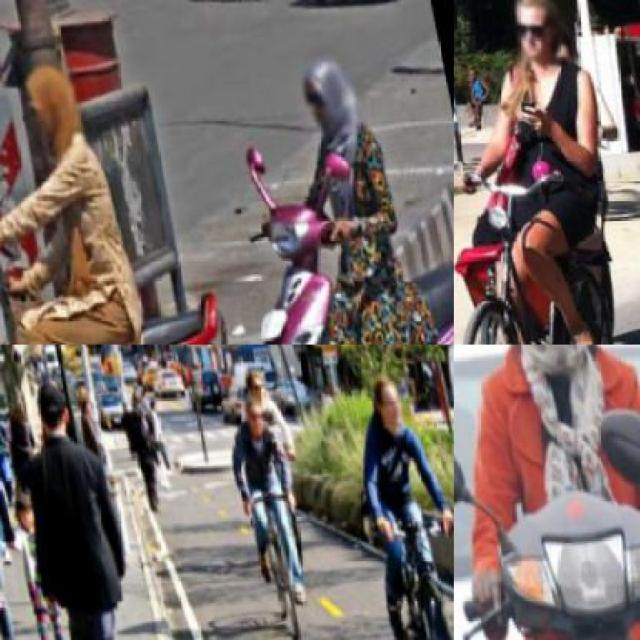Without Helmet: (11, 51, 91, 166), (286, 40, 372, 140), (500, 0, 580, 75), (480, 345, 606, 389), (365, 366, 410, 428), (235, 390, 267, 432)
